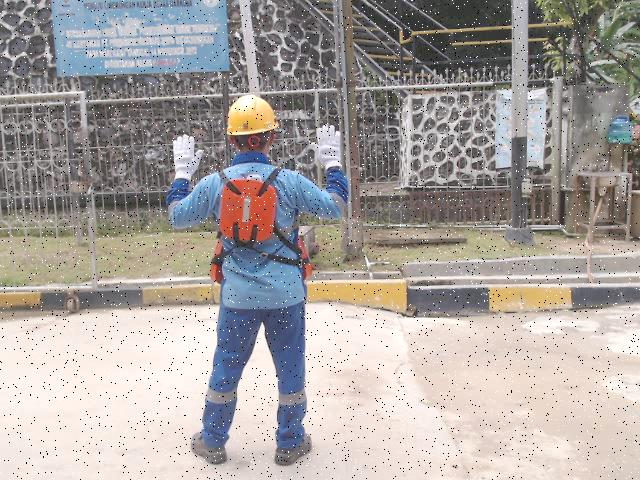gloves: (306, 120, 349, 174), (168, 132, 206, 180)
helmet: (224, 91, 281, 139)
safety-shoes: (186, 421, 233, 470), (273, 426, 317, 474)
vest: (217, 176, 278, 245)
